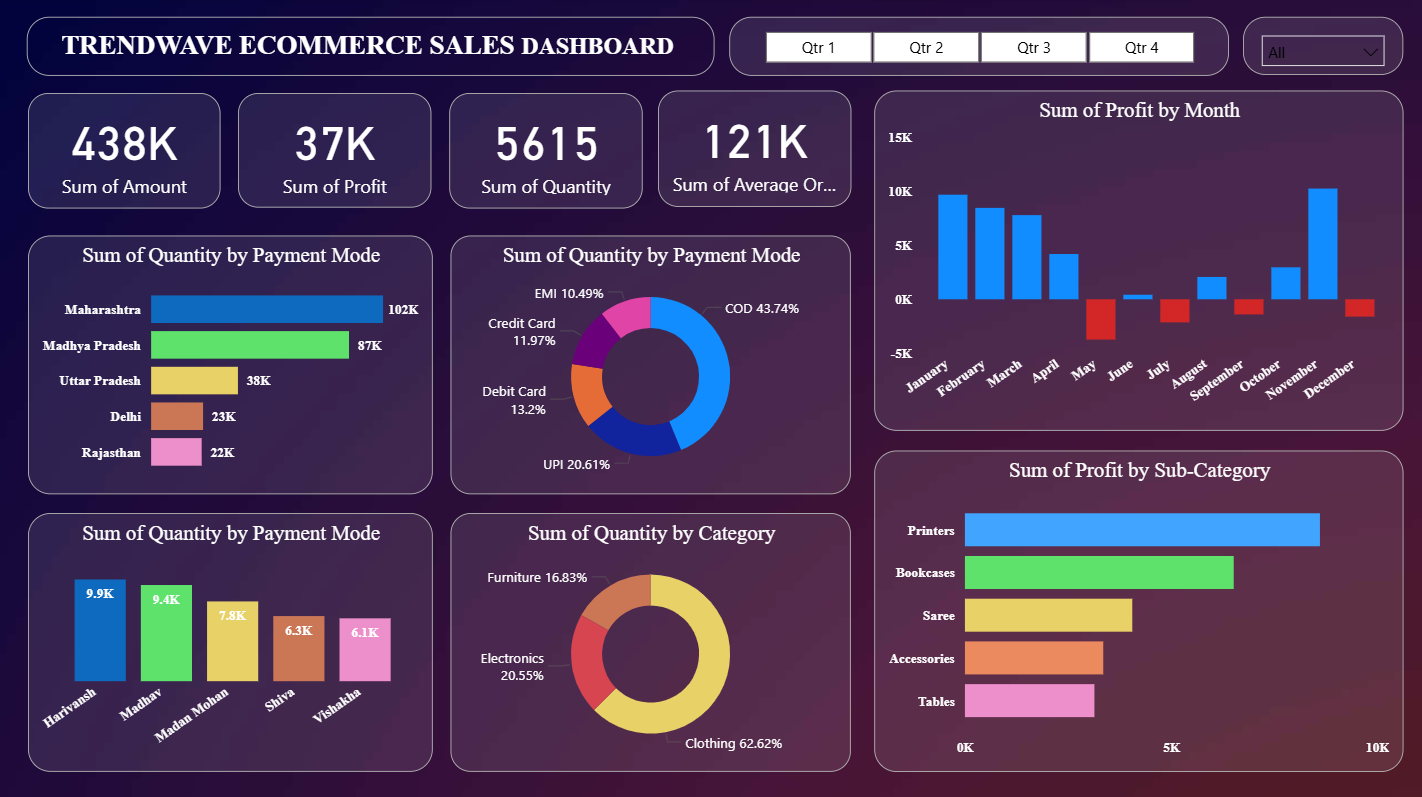

What the dashboard file says about the page in this screenshot:
{"tool":"powerbi","page":{"name":"Page 1","canvas":[1280,720],"ordinal":0},"visuals":[{"type":"textbox","box":[25.5,16.4,614.5,52.7],"z":0},{"type":"columnChart","fields":{"Y":["Sum(Details.Profit)"],"Category":["Orders.Order Date.Variation.Date Hierarchy.Month","Orders.Order Date.Variation.Date Hierarchy.Day"]},"box":[782.5,82.5,472.5,303.8],"z":1000},{"type":"barChart","fields":{"Category":["Details.Sub-Category"],"Y":["Sum(Details.Profit)"]},"box":[782.5,403.8,472.5,287.5],"z":2000},{"type":"donutChart","fields":{"Category":["Details.Category"],"Y":["Sum(Details.Quantity)"]},"box":[403.8,460,357.5,231.2],"z":3000},{"type":"donutChart","title":"Sum of Quantity by Payment Mode","fields":{"Y":["Sum(Details.Quantity)"],"Category":["Details.PaymentMode"]},"box":[403.8,212.5,357.5,231.2],"z":4000},{"type":"card","fields":{"Values":["Sum(Details.Amount)"]},"box":[26.4,84.5,172.3,103.1],"z":5000},{"type":"card","fields":{"Values":["Sum(Details.Profit)"]},"box":[214.4,84.9,173.1,102.7],"z":6000},{"type":"card","fields":{"Values":["Sum(Details.Quantity)"]},"box":[403.3,84.5,173.1,103.1],"z":7000},{"type":"card","fields":{"Values":["Sum(Details.Average Order Value)"]},"box":[589.7,83,172.5,103.8],"z":8000},{"type":"barChart","title":"Sum of Quantity by Payment Mode","fields":{"Category":["Orders.State"],"Y":["Sum(Details.Amount)"]},"box":[26.2,212.5,361.2,231.2],"z":9000},{"type":"columnChart","title":"Sum of Quantity by Payment Mode","fields":{"Category":["Orders.CustomerName"],"Y":["Sum(Details.Amount)"]},"box":[26.2,460,361.2,231.2],"z":10000},{"type":"slicer","fields":{"Values":["Orders.Order Date.Variation.Date Hierarchy.Quarter"]},"box":[653.6,16.4,446.4,52.7],"z":11000},{"type":"slicer","fields":{"Values":["Orders.State"]},"box":[1112.2,16.7,143.3,52.2],"z":12000}]}

Visuals, with their boxes in screenshot pixels (x1, y1, x2, y2), scaled from the page's 1280x720 canvas onto the 1422x797 screenshot:
textbox: crop(28, 18, 711, 76)
columnChart - Sum(Details.Profit) x Orders.Order Date.Variation.Date Hierarchy.Month: crop(869, 91, 1394, 428)
barChart - Details.Sub-Category x Sum(Details.Profit): crop(869, 447, 1394, 765)
donutChart - Details.Category x Sum(Details.Quantity): crop(449, 509, 846, 765)
"Sum of Quantity by Payment Mode" donutChart: crop(449, 235, 846, 491)
card - Sum(Details.Amount): crop(29, 94, 221, 208)
card - Sum(Details.Profit): crop(238, 94, 430, 208)
card - Sum(Details.Quantity): crop(448, 94, 640, 208)
card - Sum(Details.Average Order Value): crop(655, 92, 847, 207)
"Sum of Quantity by Payment Mode" barChart: crop(29, 235, 430, 491)
"Sum of Quantity by Payment Mode" columnChart: crop(29, 509, 430, 765)
slicer - Orders.Order Date.Variation.Date Hierarchy.Quarter: crop(726, 18, 1222, 76)
slicer - Orders.State: crop(1236, 18, 1395, 76)
